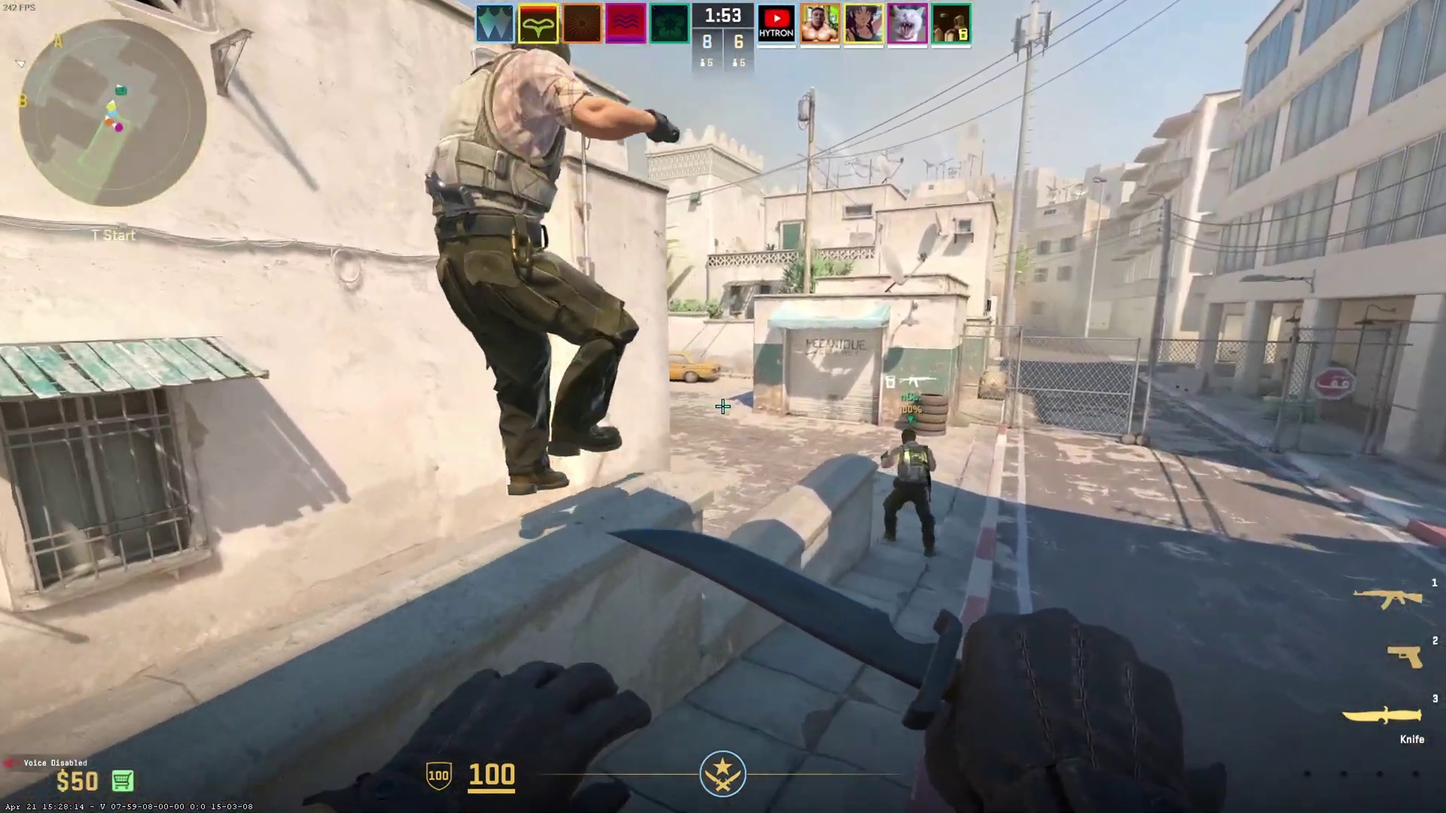Terrorist: (446, 42, 631, 496), (885, 429, 936, 558)
